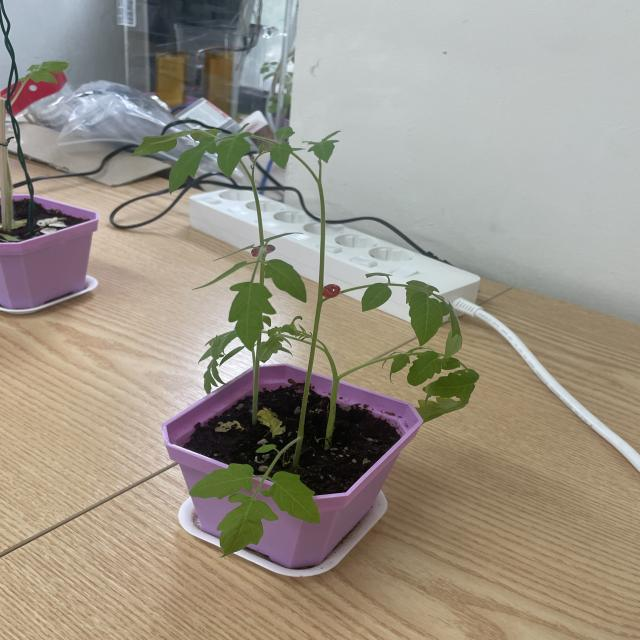bug: (313, 272, 360, 320), (240, 235, 282, 276)
